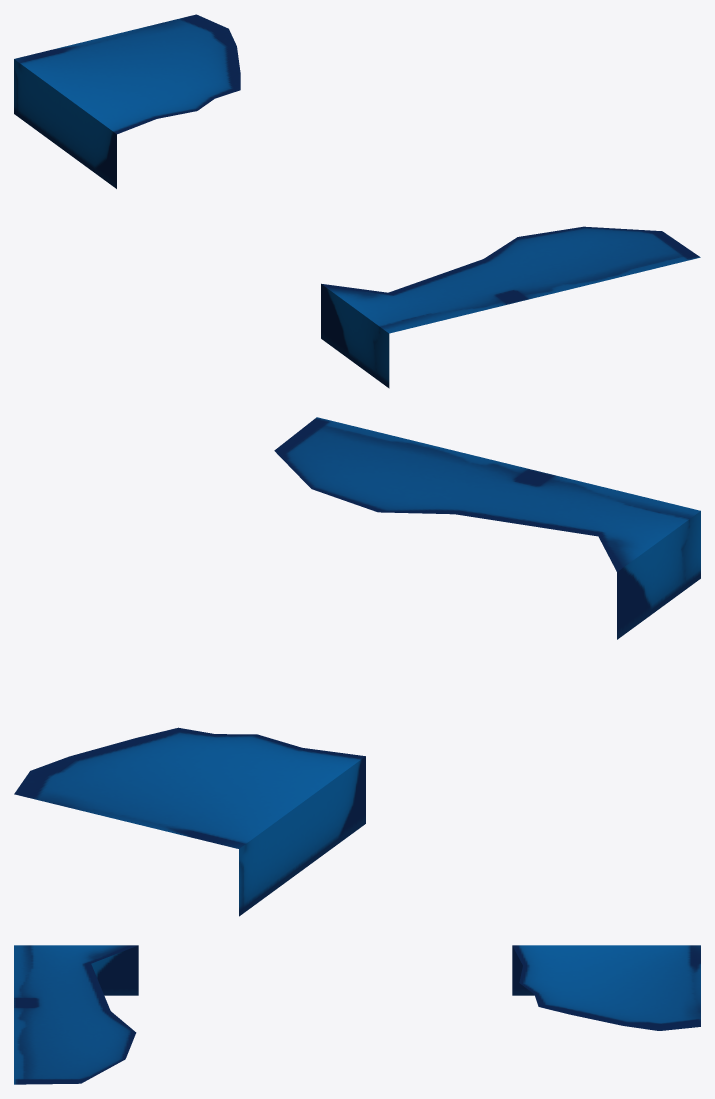
The model's file is Water_01.FBX.
3 views of the same model, one above another, from view 1: azimuth 30°, elevation 25°; view 2: azimuth 150°, elevation 25°; view 3: azimuth 270°, elevation 25° (orthographic). The views are drawn at different scales.
Parts seen in each view (by area): view 1: Water_01; view 2: Water_01; view 3: Water_01.
Part boxes in pixels (box(x1,y1,x2,y2)): Water_01: box(14, 14, 700, 388); Water_01: box(14, 417, 700, 916); Water_01: box(14, 945, 700, 1084).
Size of the model in its own units: 12 by 2.02 by 25.01.
